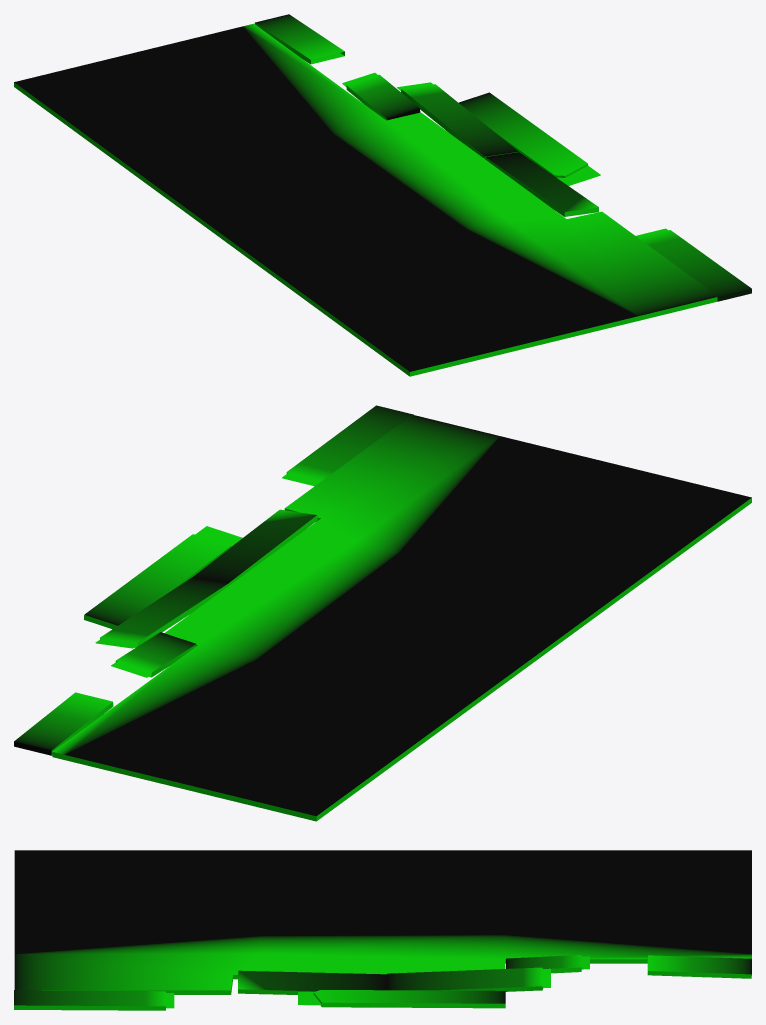
File: DBK_WoodFloor_Side_B.fbx
3 renders of one model, top to bottom at view 1: azimuth 30°, elevation 25°; view 2: azimuth 150°, elevation 25°; view 3: azimuth 270°, elevation 25°, orthographic. The views are drawn at different scales.
Parts seen in each view (by area): view 1: DBK_WoodFloor_Side_B; view 2: DBK_WoodFloor_Side_B; view 3: DBK_WoodFloor_Side_B.
Boxes of the visible parts, box(x1,y1,x2,y2) form: DBK_WoodFloor_Side_B: box(14, 14, 751, 376); DBK_WoodFloor_Side_B: box(14, 405, 751, 821); DBK_WoodFloor_Side_B: box(14, 850, 751, 1010).
Size of what is drawn, in the model's own units: 150 by 6.35 by 300.
